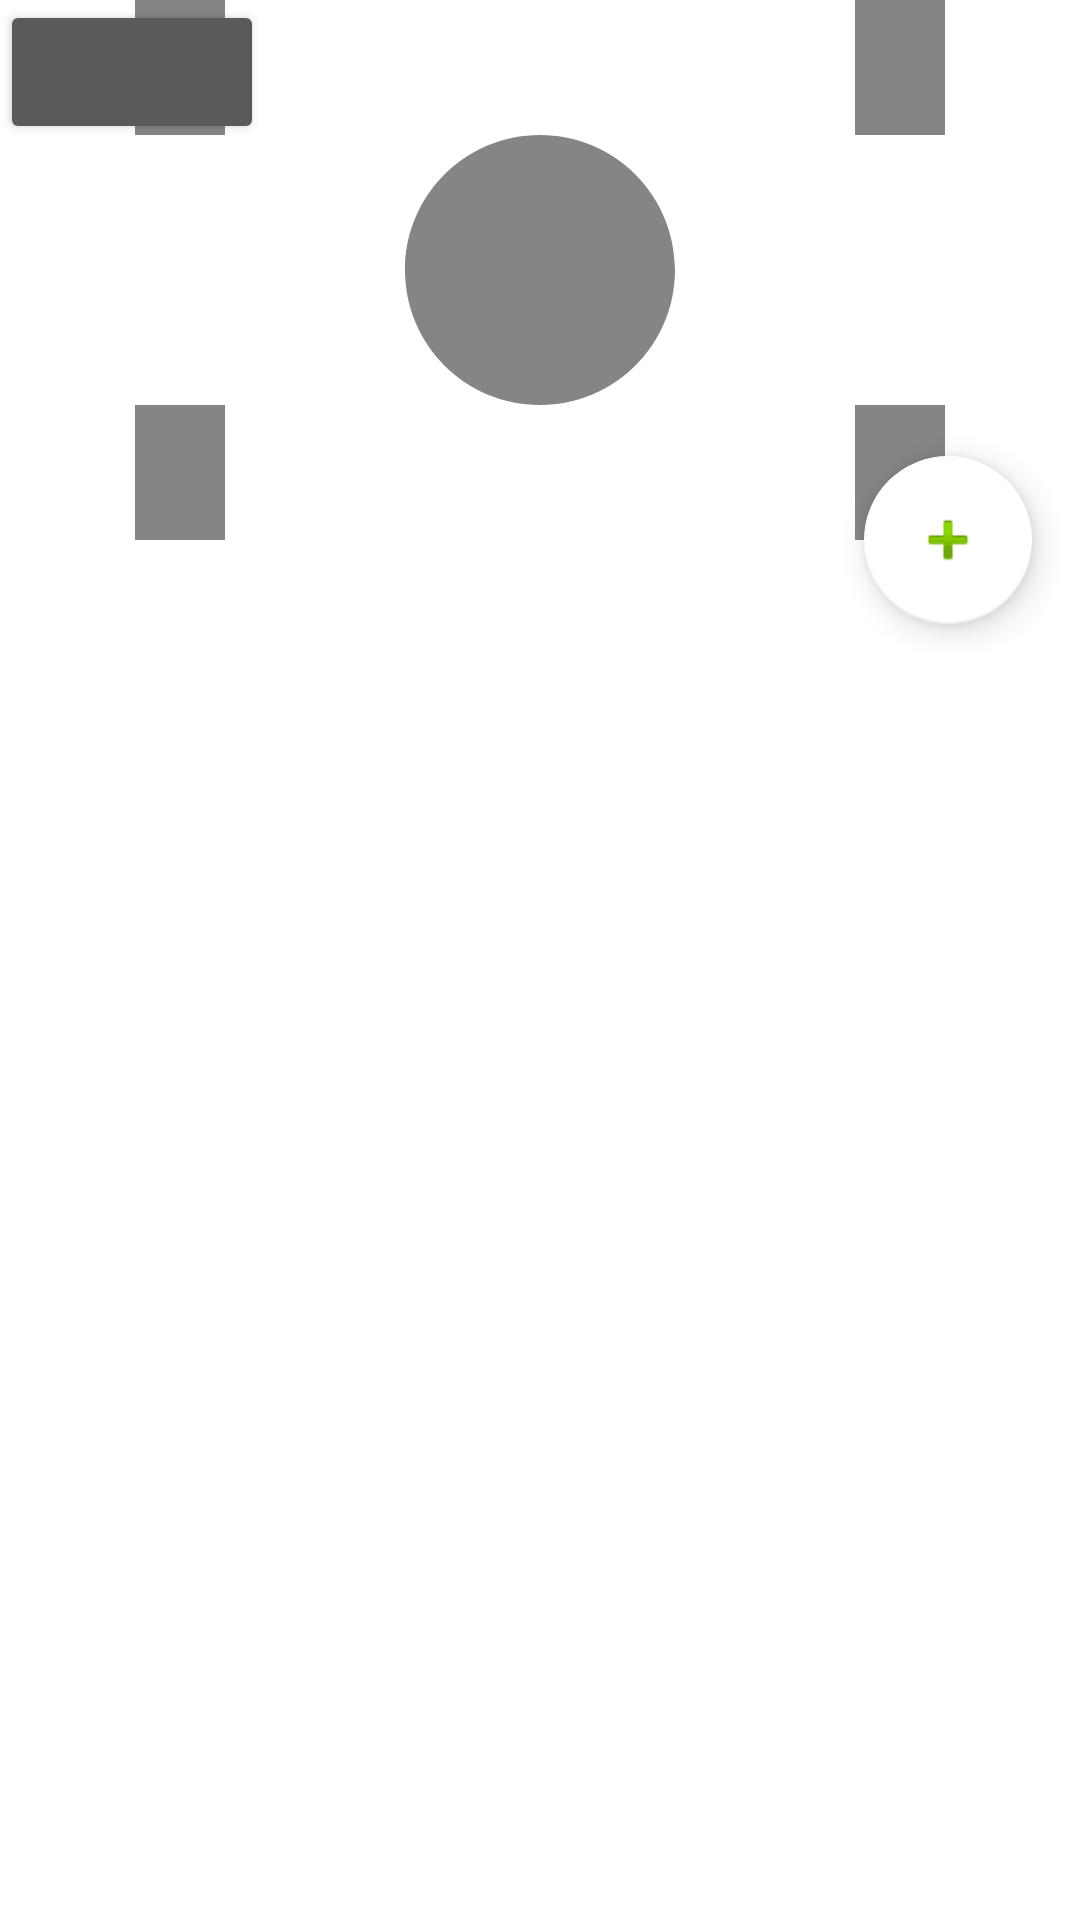

Icons on this 1080×1920 Android screen, each with the point to tap as [x,y]:
add: [948,540]
